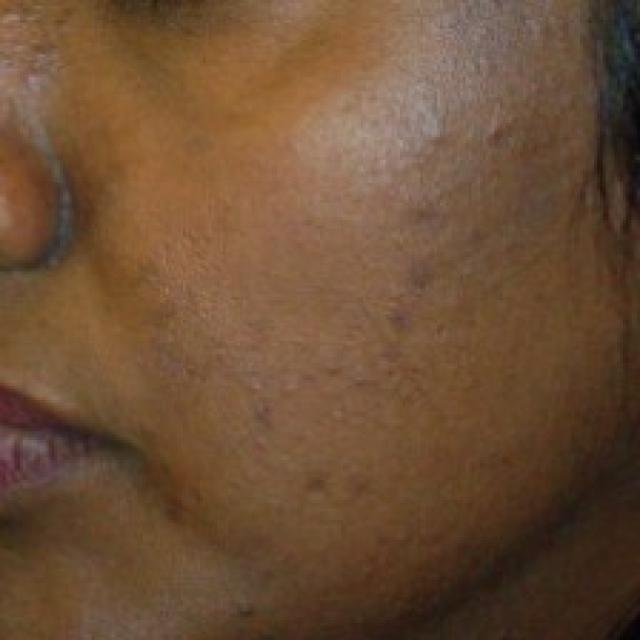Acne: (258, 90, 508, 494)
